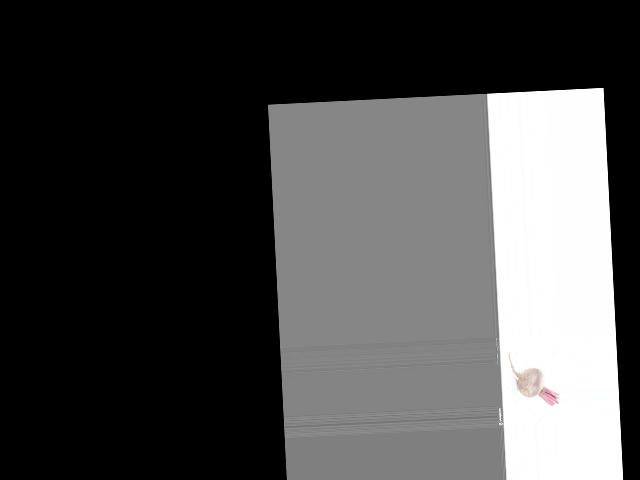beet: (508, 349, 559, 407)
